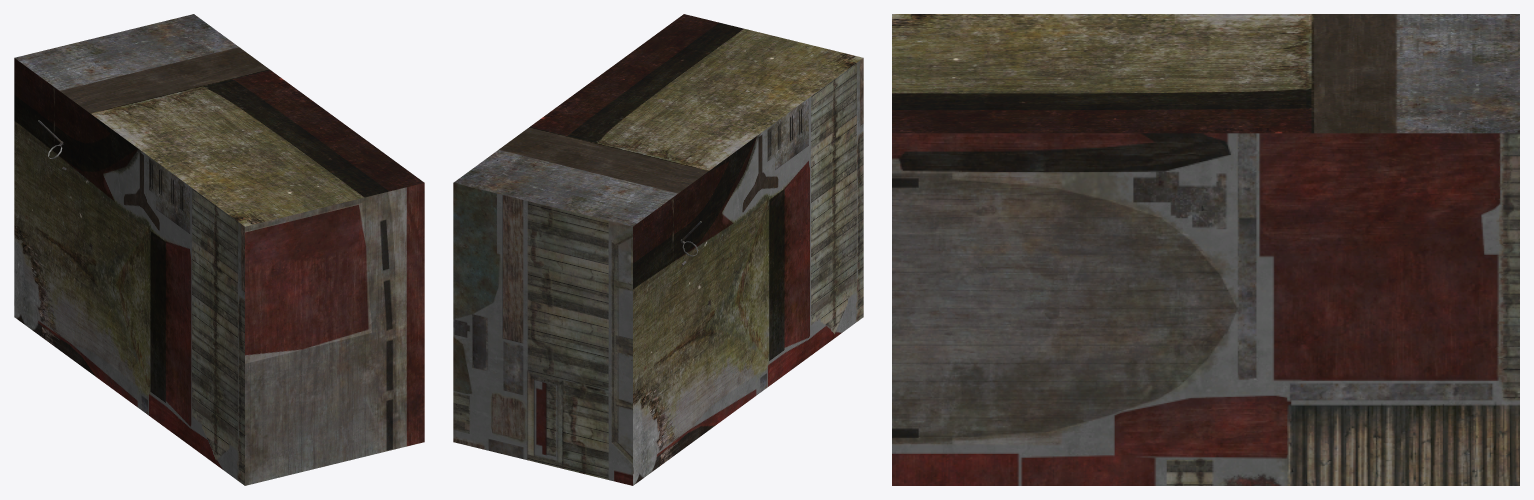
Rendered from beached_boat_base_a.DAE.
3 renders of one model, left to right at view 1: azimuth 30°, elevation 25°; view 2: azimuth 150°, elevation 25°; view 3: azimuth 270°, elevation 25°, orthographic. The views are drawn at different scales.
Visible parts, largest first — view 1: bounds; view 2: bounds; view 3: bounds.
Boxes of the visible parts, box(x1,y1,x2,y2) form: bounds: box(14, 14, 424, 485); bounds: box(453, 14, 863, 485); bounds: box(892, 14, 1519, 485).
Size of the model in its own units: 746 by 1475 by 915.
